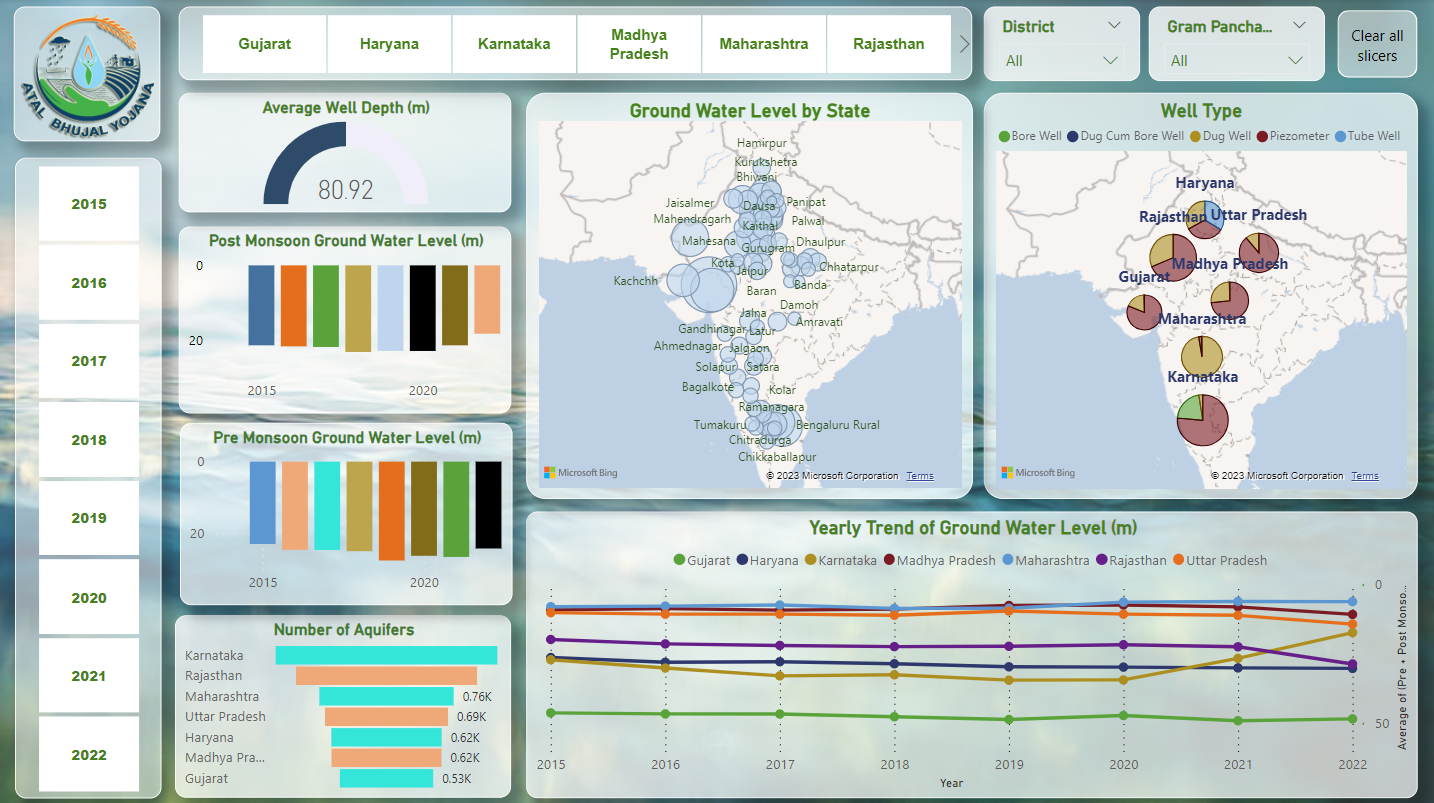

The page's visual inventory and layout, read from the dashboard file:
{"tool":"powerbi","page":{"name":"Page 1","canvas":[1280,720],"ordinal":0},"visuals":[{"type":"slicer","fields":{"Values":["ALL YEARS.Year"]},"box":[13.8,141.2,130,570],"z":0},{"type":"columnChart","title":"Post Monsoon Ground Water Level (m)","fields":{"Y":["Avg(ALL YEARS.Post-monsoon)"],"Category":["ALL YEARS.Year"]},"box":[158.8,202.5,296.2,166.2],"z":1000},{"type":"slicer","fields":{"Values":["RAW.District"]},"box":[875.8,6.7,139.1,66.8],"z":2000},{"type":"image","box":[12.5,6.2,130,120],"z":3000},{"type":"gauge","title":"Average Well Depth (m)","fields":{"Y":["Avg(RAW.Well_Depth (meters))"]},"box":[158.8,83.8,296.2,106.2],"z":4000},{"type":"funnel","title":"Number of Aquifers","fields":{"Category":["RAW.State"],"Y":["CountNonNull(RAW.Aquifer)"]},"box":[155.8,548.6,299.4,162.5],"z":5000},{"type":"map","title":"Well Type","fields":{"Series":["RAW.TYPE"],"Size":["CountNonNull(RAW.State)"],"Category":["RAW.State"]},"box":[875.8,83.5,386.2,361.7],"z":6000},{"type":"lineChart","title":"Yearly Trend of Ground Water Level (m)","fields":{"Category":["ALL YEARS.Year"],"Y2":["Avg(ALL YEARS.(Pre + Post Monsoon) / 2)"],"Series":["RAW.State"]},"box":[468.8,456.2,793.8,255],"z":7000},{"type":"slicer","fields":{"Values":["RAW.State"]},"box":[159.1,6.7,706.6,65.7],"z":8000},{"type":"slicer","fields":{"Values":["RAW.Gram Panchayat"]},"box":[1022.7,6.7,156.9,66.8],"z":9000},{"type":"columnChart","title":"Pre Monsoon Ground Water Level (m)","fields":{"Category":["ALL YEARS.Year"],"Y":["Avg(ALL YEARS.Pre-monsoon)"]},"box":[160.2,377.2,296,162.5],"z":10000},{"type":"map","title":"Ground Water Level by State","fields":{"Size":["Sum(ALL YEARS.(Pre + Post Monsoon) / 2)"],"Category":["RAW.District"]},"box":[468.5,83.5,397.3,361.7],"z":11000},{"type":"actionButton","box":[1190.7,10,71.2,60.1],"z":12000}]}

Visuals, with their boxes in screenshot pixels (x1, y1, x2, y2), scaled from the page's 1280x720 canvas onto the 1434x803 screenshot:
slicer - ALL YEARS.Year: l=15, t=157, r=161, b=793
"Post Monsoon Ground Water Level (m)" columnChart: l=178, t=226, r=510, b=411
slicer - RAW.District: l=981, t=7, r=1137, b=82
image: l=14, t=7, r=160, b=141
"Average Well Depth (m)" gauge: l=178, t=93, r=510, b=212
"Number of Aquifers" funnel: l=175, t=612, r=510, b=793
"Well Type" map: l=981, t=93, r=1414, b=497
"Yearly Trend of Ground Water Level (m)" lineChart: l=525, t=509, r=1415, b=793
slicer - RAW.State: l=178, t=7, r=970, b=81
slicer - RAW.Gram Panchayat: l=1146, t=7, r=1322, b=82
"Pre Monsoon Ground Water Level (m)" columnChart: l=179, t=421, r=511, b=602
"Ground Water Level by State" map: l=525, t=93, r=970, b=497
actionButton: l=1334, t=11, r=1414, b=78
